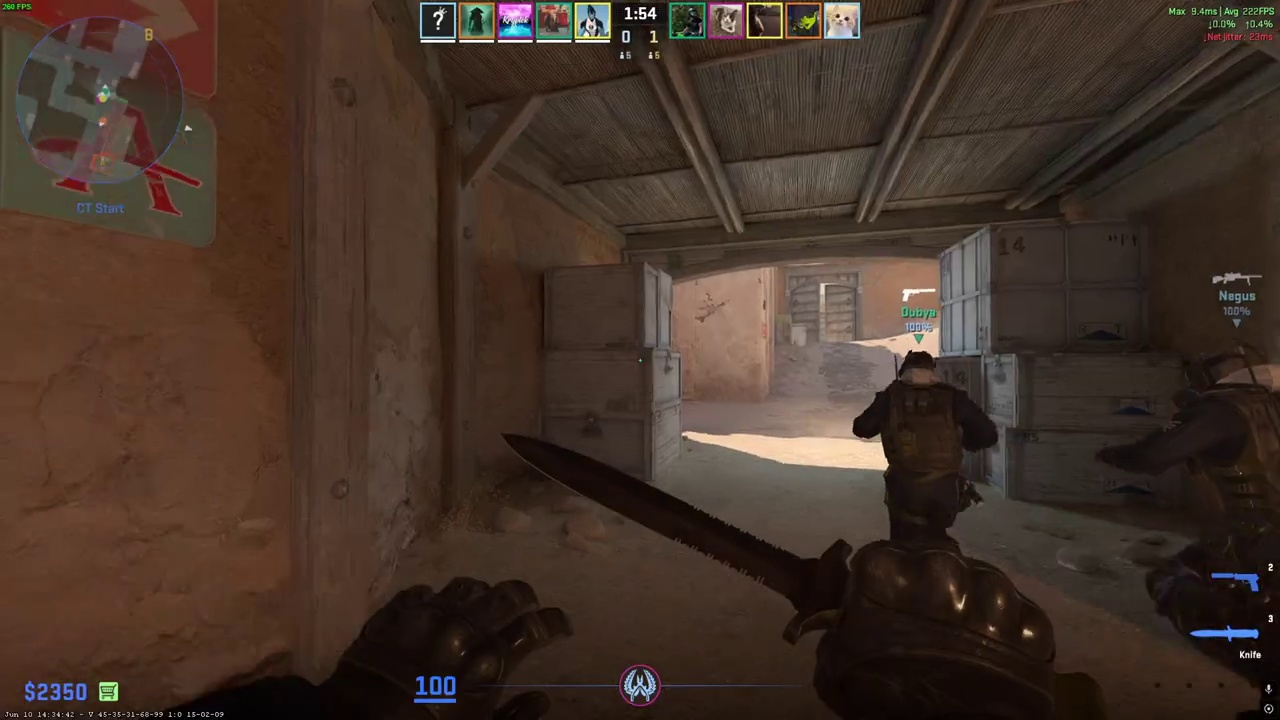CT: (1151, 345, 1280, 720), (871, 351, 984, 547)
